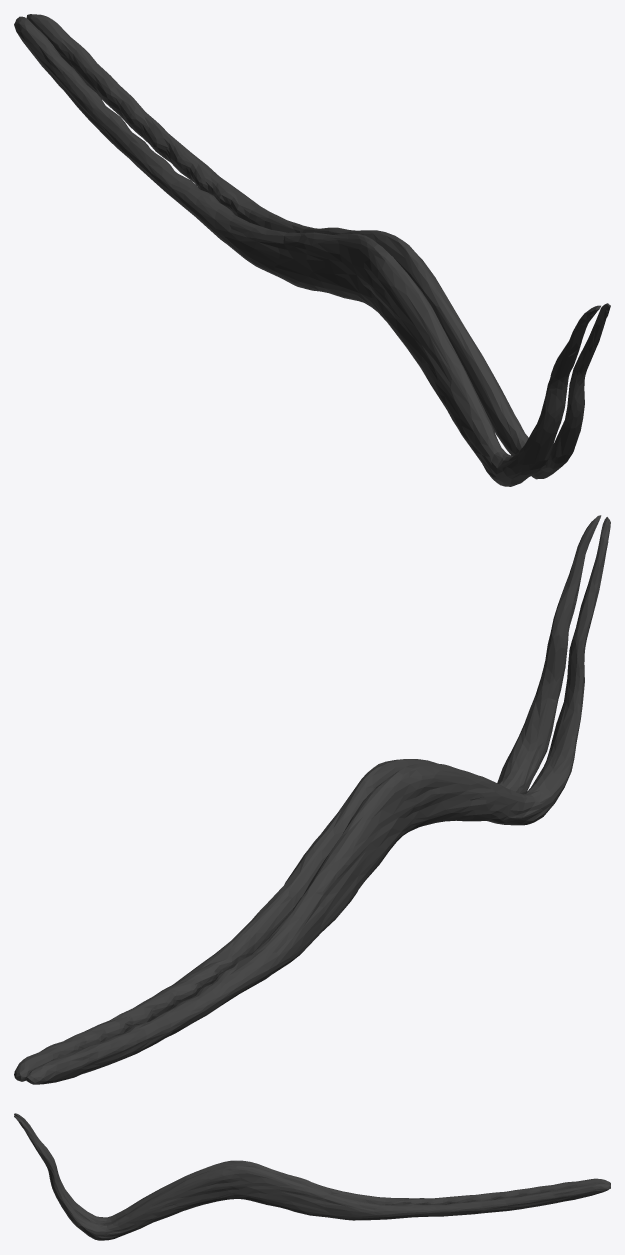
The model's file is m_spinalis_thoracis_et_cervicis.glb.
The picture shows the model from 3 angles, top to bottom: view 1: azimuth 30°, elevation 25°; view 2: azimuth 150°, elevation 25°; view 3: azimuth 270°, elevation 25°; orthographic projection. The views are drawn at different scales.
Visible parts, largest first — view 1: m_spinalis_thoracis_et_cervicis; view 2: m_spinalis_thoracis_et_cervicis; view 3: m_spinalis_thoracis_et_cervicis.
Boxes of the visible parts, left/top/right/bottom form: m_spinalis_thoracis_et_cervicis: left=14, top=14, right=610, bottom=486; m_spinalis_thoracis_et_cervicis: left=14, top=515, right=610, bottom=1084; m_spinalis_thoracis_et_cervicis: left=14, top=1113, right=610, bottom=1240.
Size of the model in its own units: 0.00119 by 0.00432 by 0.0192.
Materials: 1 (1 with a texture image).
